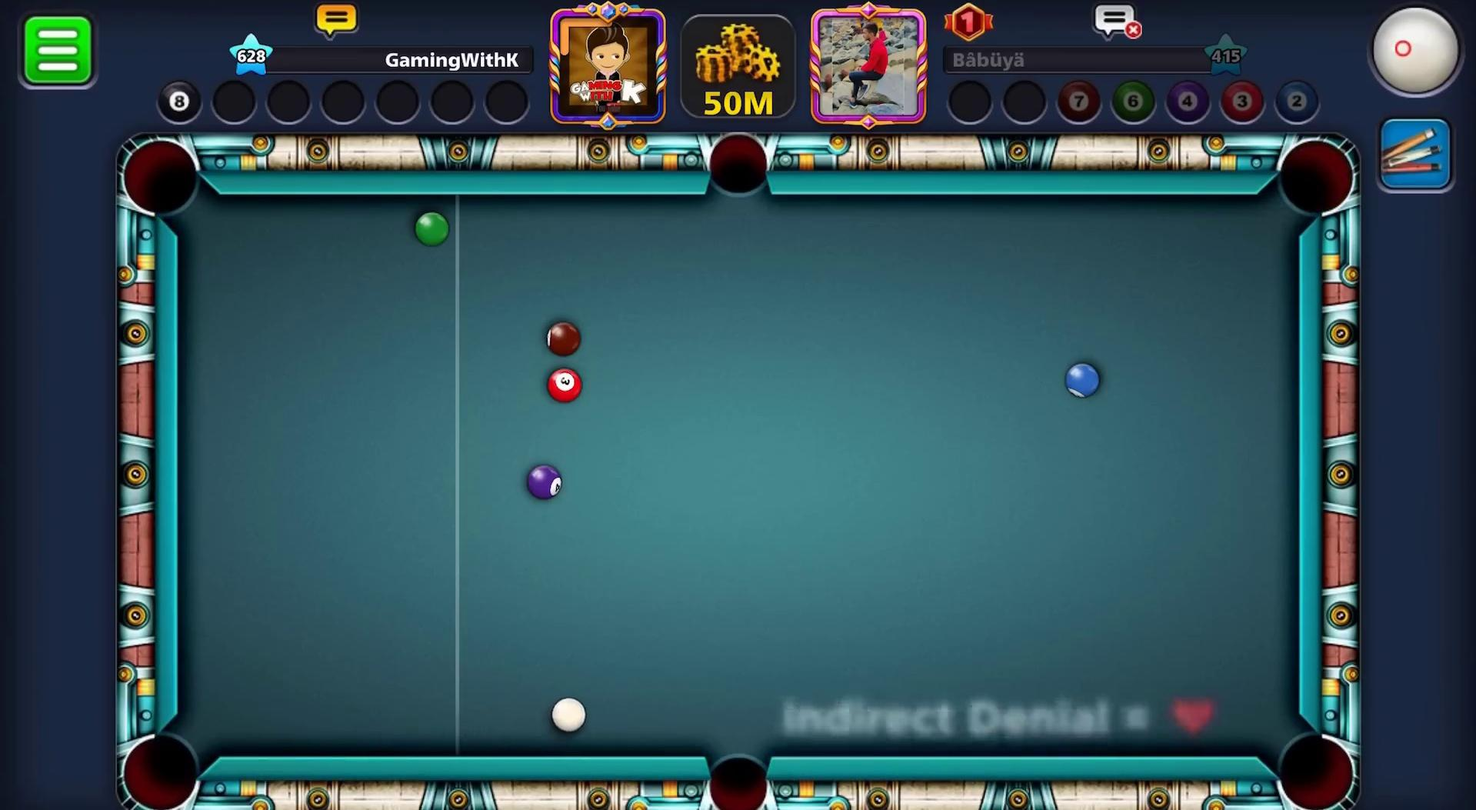Ball: (533, 358, 599, 419), (508, 454, 573, 508), (529, 316, 586, 365), (1061, 359, 1106, 406), (408, 210, 450, 249)
Hole: (102, 711, 222, 809), (1255, 712, 1367, 809), (106, 124, 210, 228), (1265, 127, 1364, 228), (699, 120, 788, 216), (688, 732, 786, 809)
Play_Area: (178, 194, 1299, 754)
Spin: (1362, 0, 1475, 111)
White: (535, 694, 595, 738)
